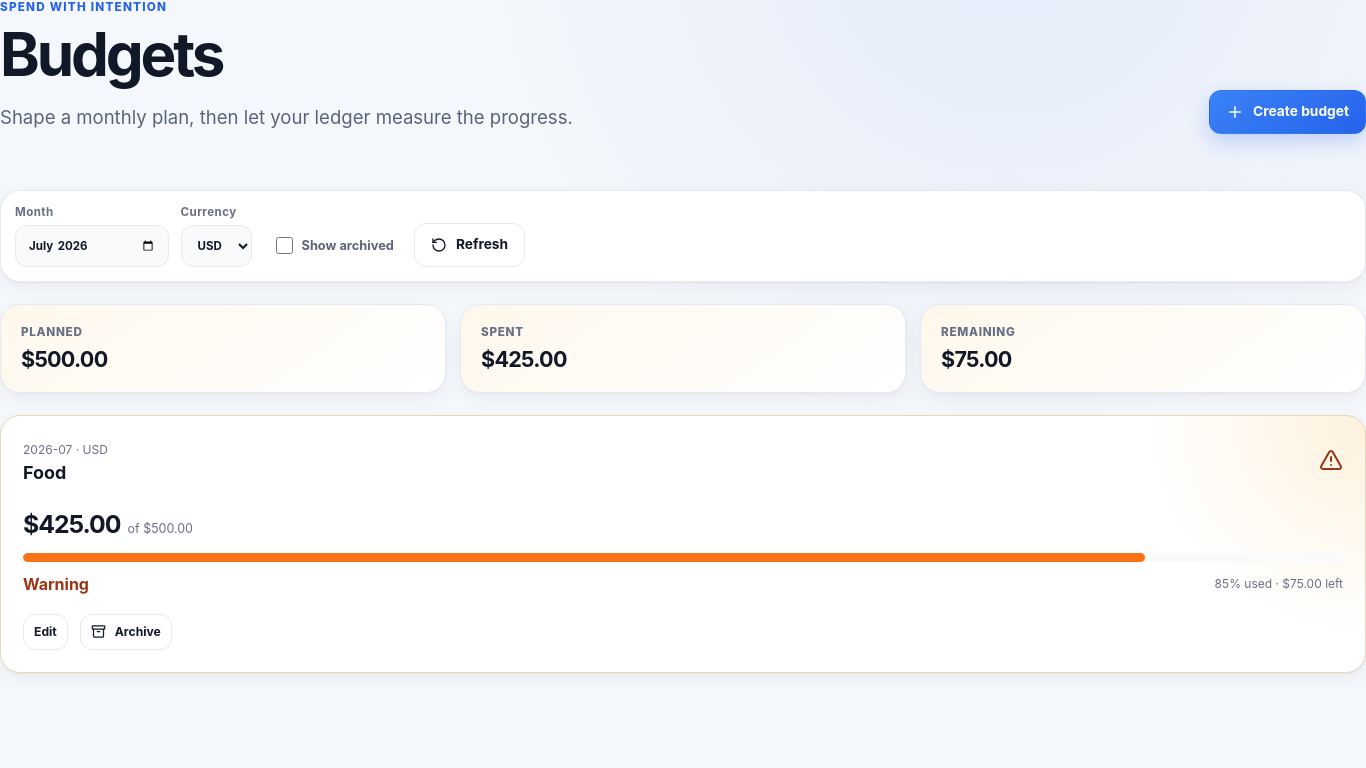
Test: BudgetsPage › guards duplicate archive submission and retains the last successful rows during refresh failure
expect the text "Warning" is shown: met, box [23,574,89,594]
Click the button with aria-label "Archive Food budget": (126, 632) [80,614,172,650]
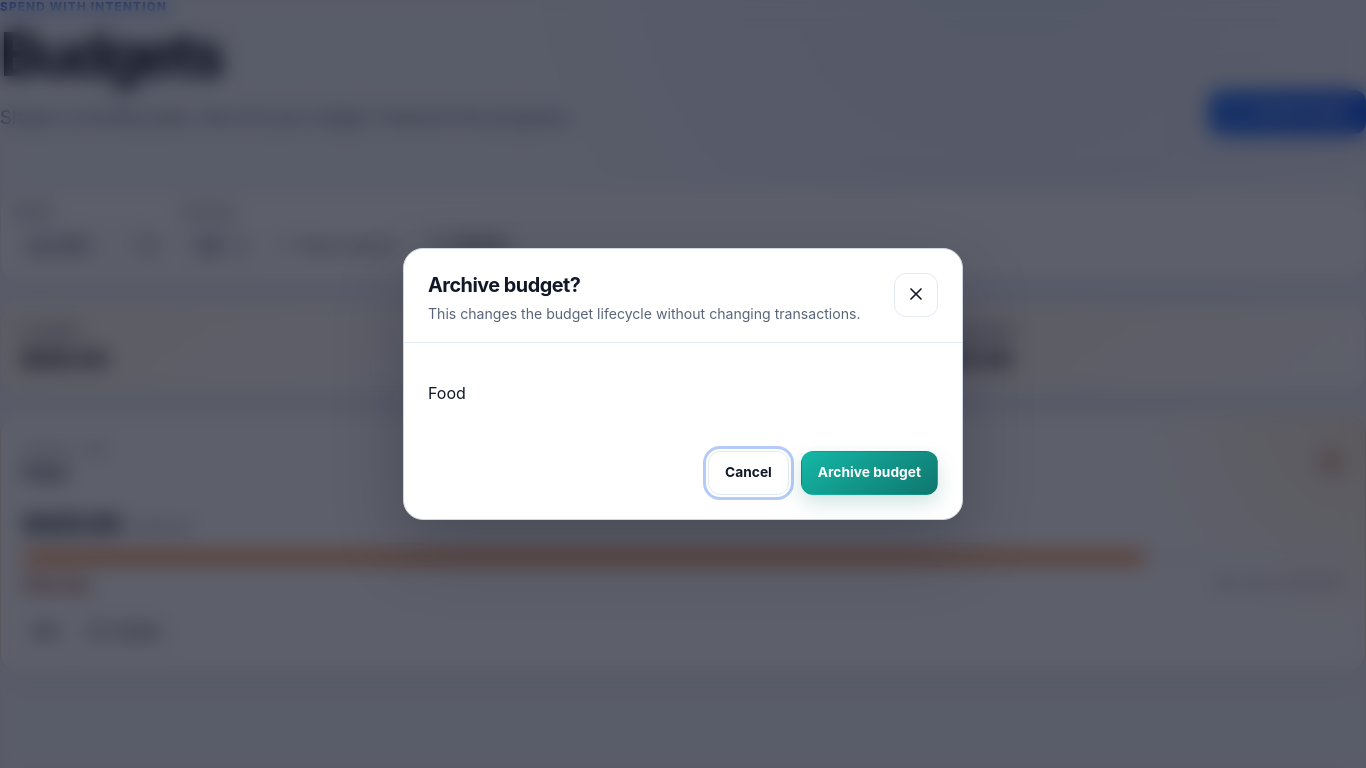
Double-click the button "Archive budget": (869, 473) [801,451,938,495]
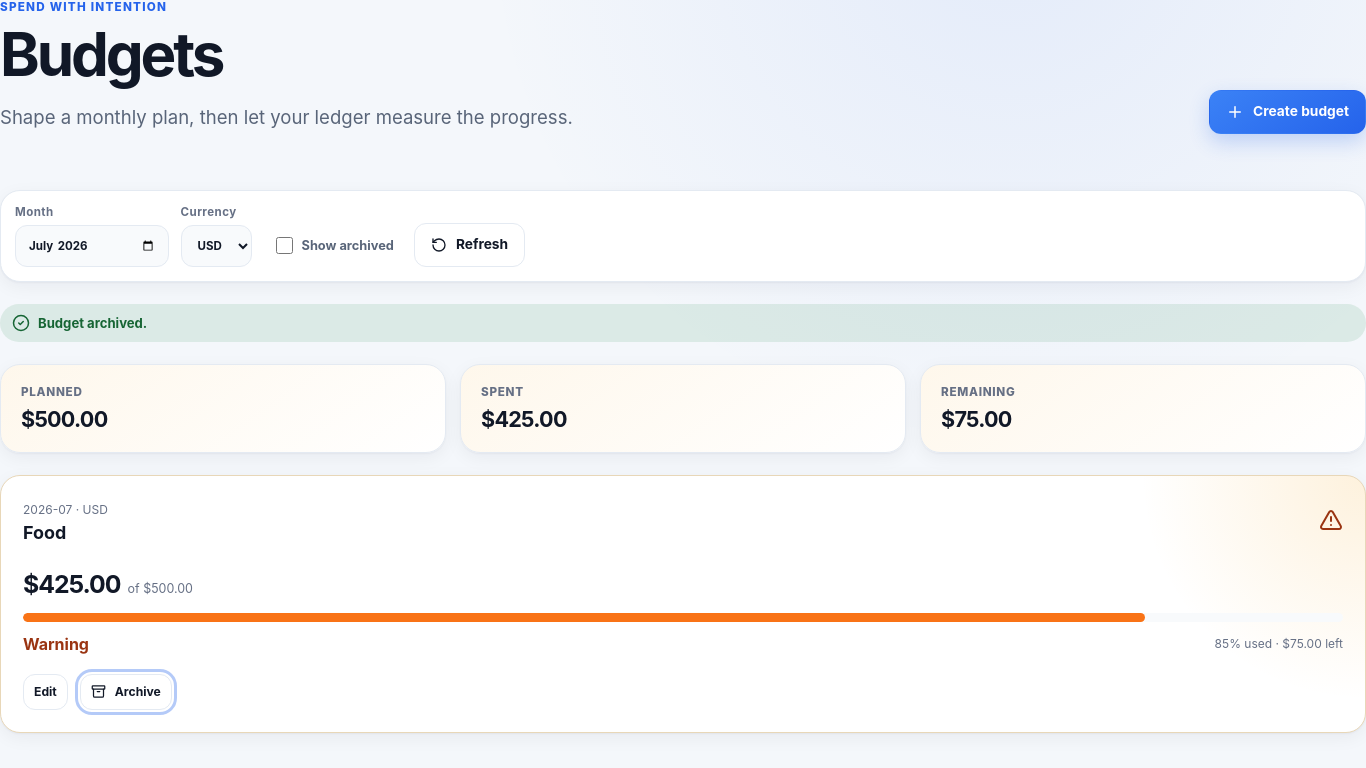
expect the dialog is gone: met
Click the button with aria-label "Refresh budgets": (470, 245) [414,223,525,267]
(page scrolled)
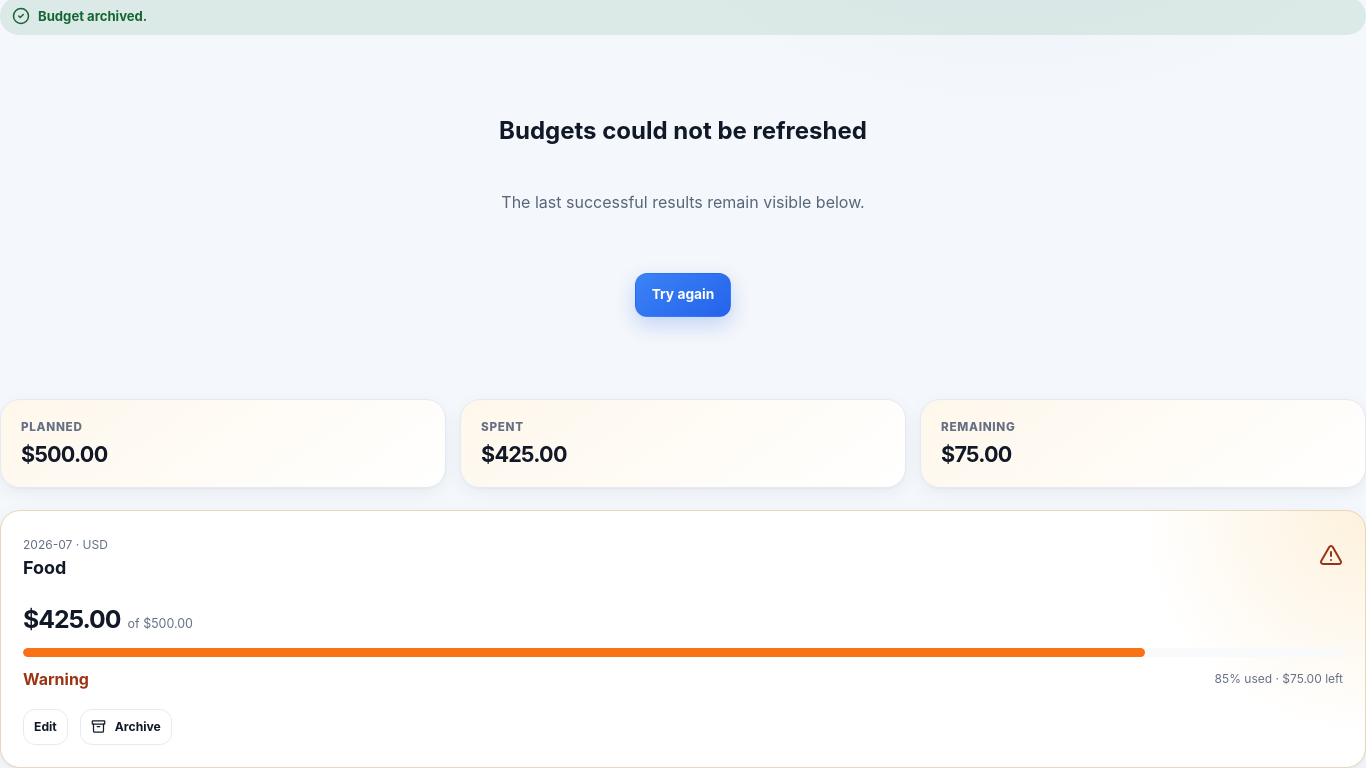
expect the heading "Food" is shown: met, box [23,557,66,578]
expect the message that starts with "Budgets could not be refreshed" shows "last successful results remain visible": met, box [501,192,865,212]
